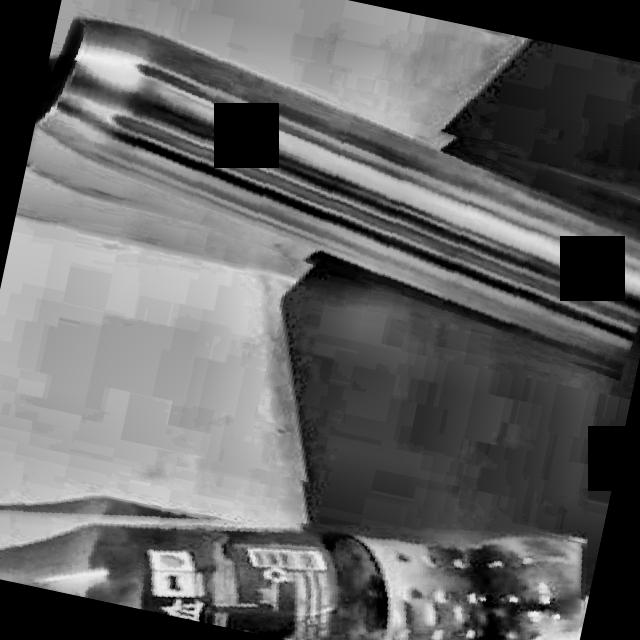bottle: (35, 13, 640, 372), (0, 522, 583, 640)
